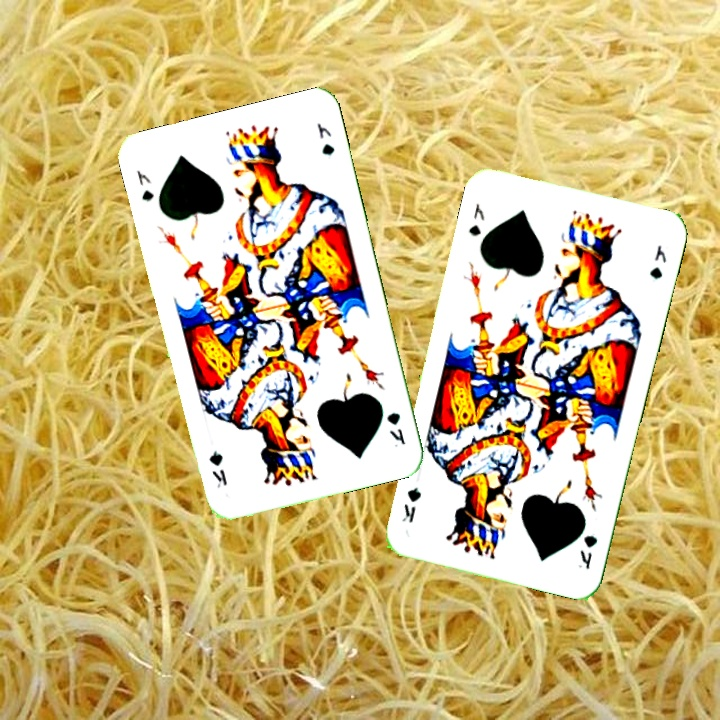GK: (574, 531, 600, 572), (382, 408, 408, 447), (132, 166, 157, 204), (464, 199, 487, 239)
